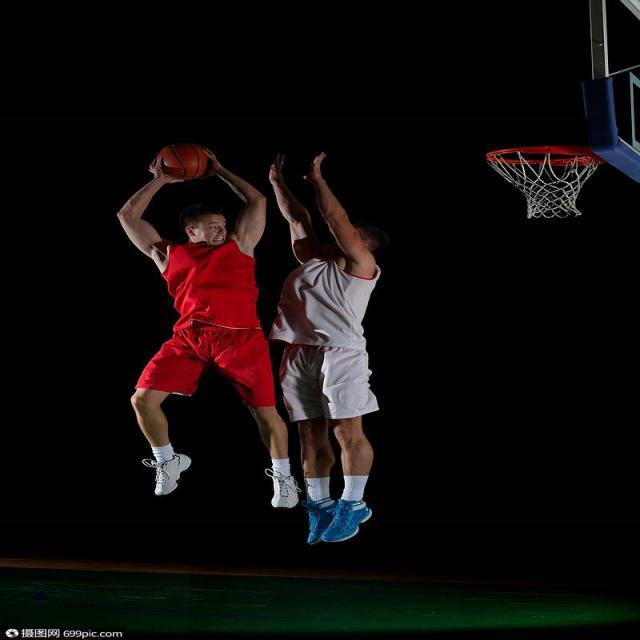rim: (154, 144, 208, 178)
